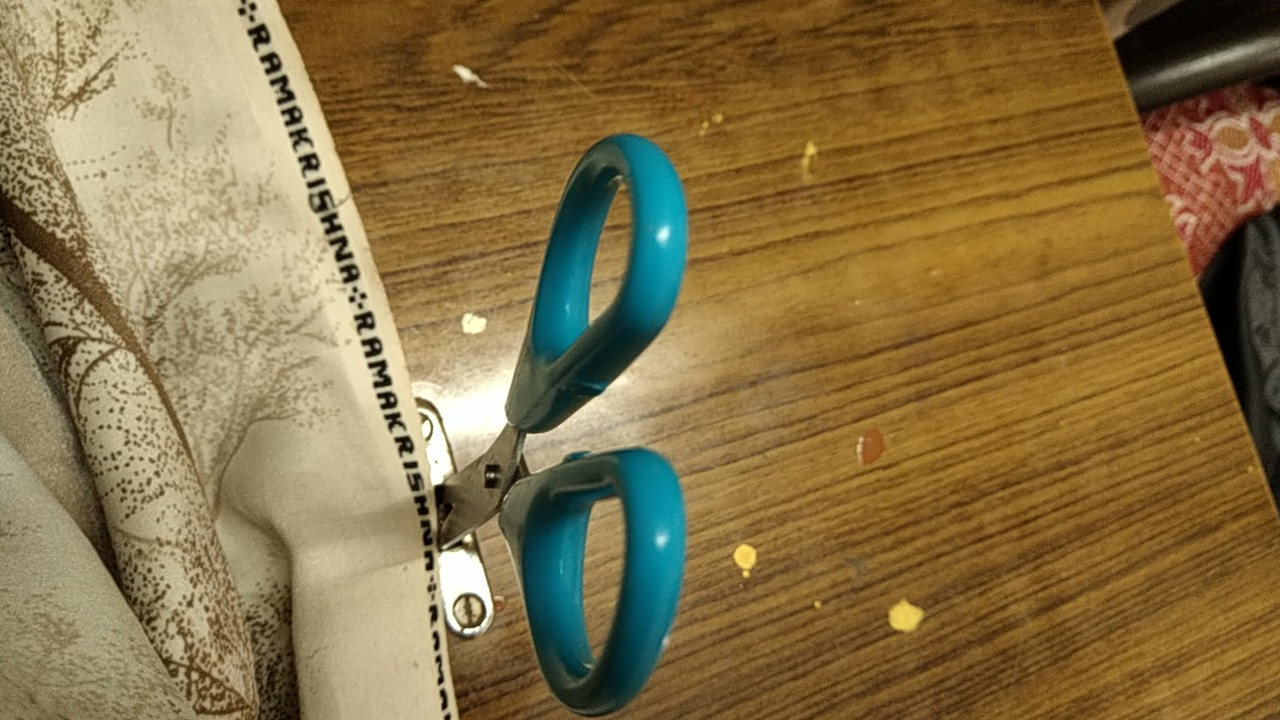scissor: (414, 119, 701, 720)
